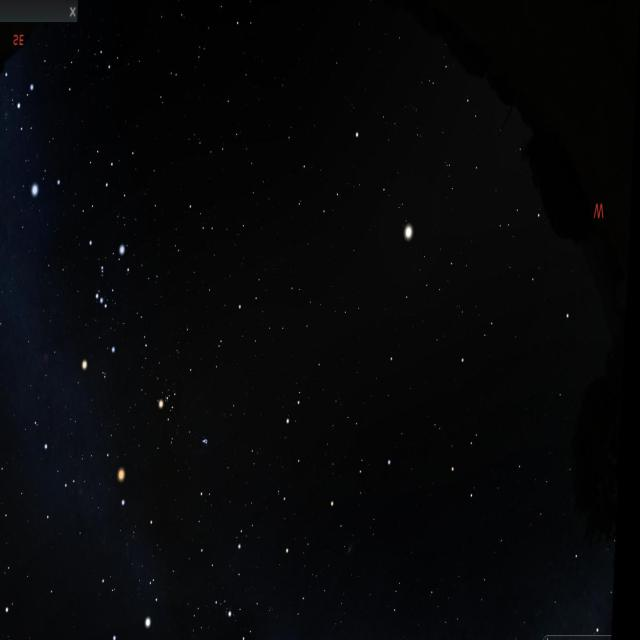canis_major: (4, 78, 72, 210)
canis_minor: (0, 367, 9, 421)
gemini: (0, 463, 93, 632)
orion: (78, 235, 134, 377)
pleiades: (200, 422, 220, 459)
taurus: (152, 360, 222, 472)
